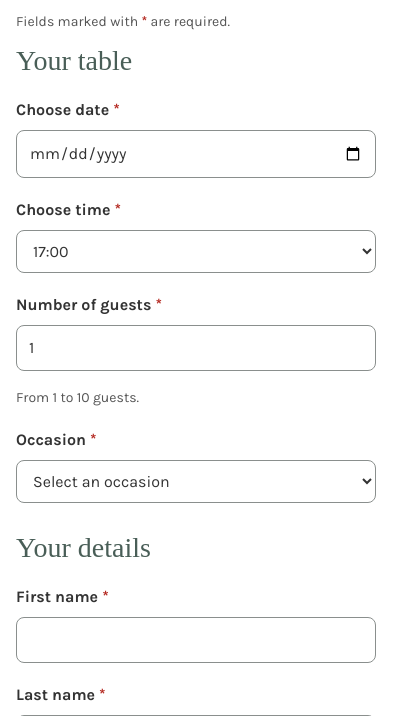
Test: JavaScript validation: valid and invalid states per field › Occasion = "" is invalid
Select "Select an occasion" in the dropdown labelled "Occasion": (196, 482) [16,460,376,503]
Leave the dropdown labelled "Occasion", box [16,460,376,503]
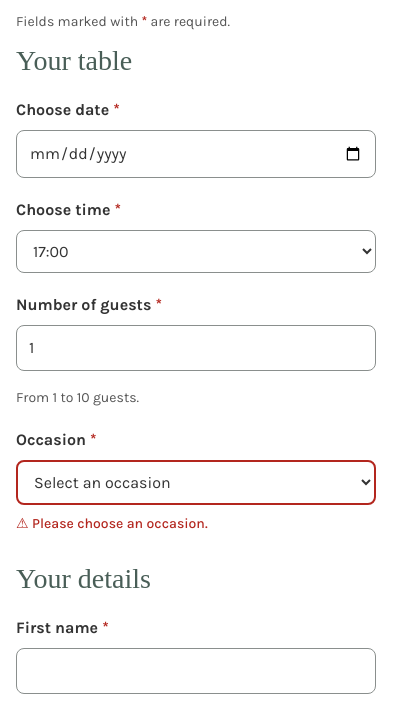
expect the text "Please choose an occasion." is shown: met, box [32,515,208,532]
